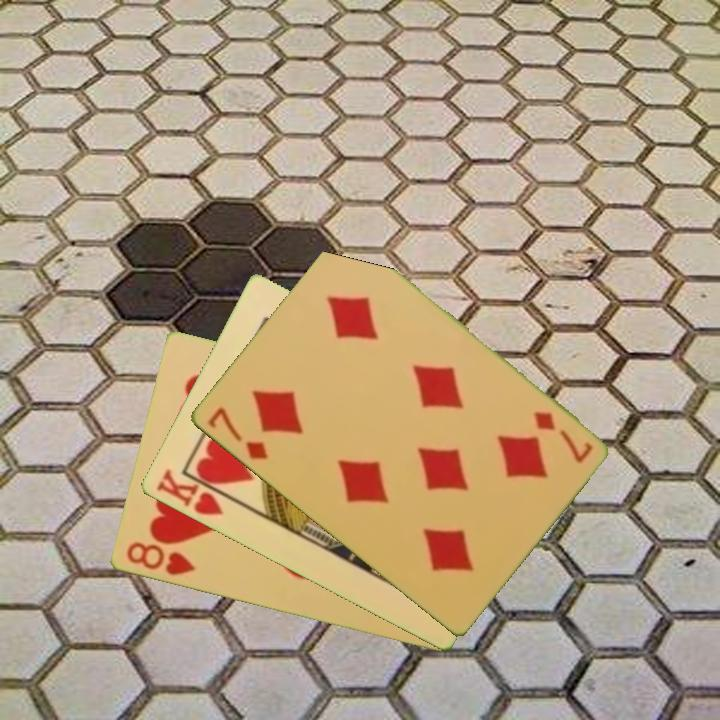7d: (203, 403, 271, 463), (529, 407, 595, 467)
8h: (122, 538, 198, 579)
Kh: (152, 465, 237, 519)
